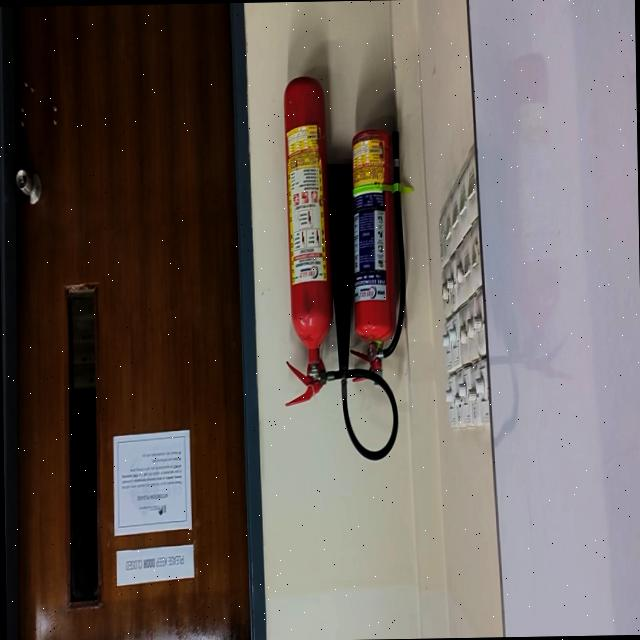Fire Extinguisher: (283, 75, 331, 374), (351, 128, 396, 368)
